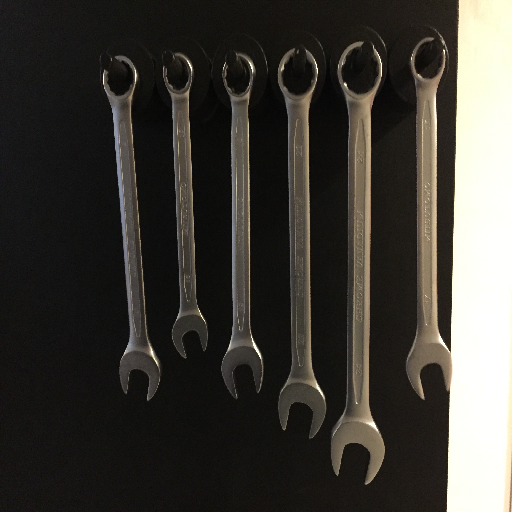bottom: (326, 414, 388, 488), (403, 337, 454, 403), (272, 381, 329, 440), (217, 346, 267, 401), (114, 349, 163, 405), (169, 316, 211, 359)
top: (335, 38, 384, 102), (275, 46, 322, 100), (407, 36, 449, 83), (101, 55, 142, 101), (220, 50, 257, 100), (159, 52, 195, 97)
